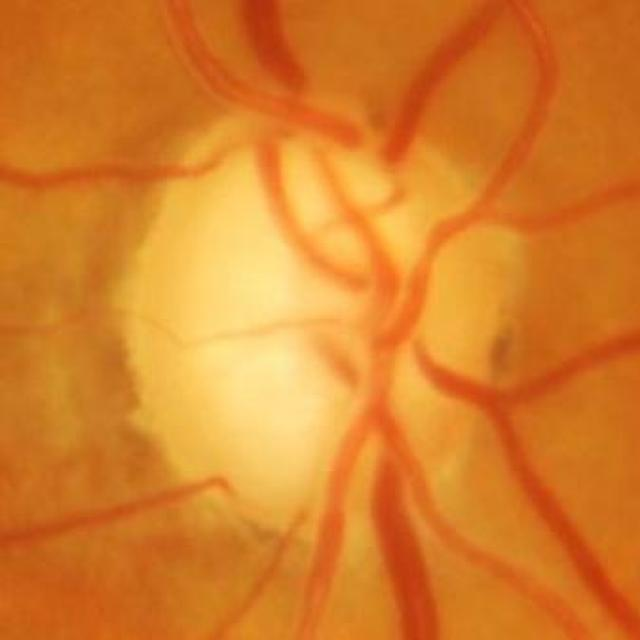OC: (218, 179, 434, 422)
OD: (119, 106, 526, 533)
